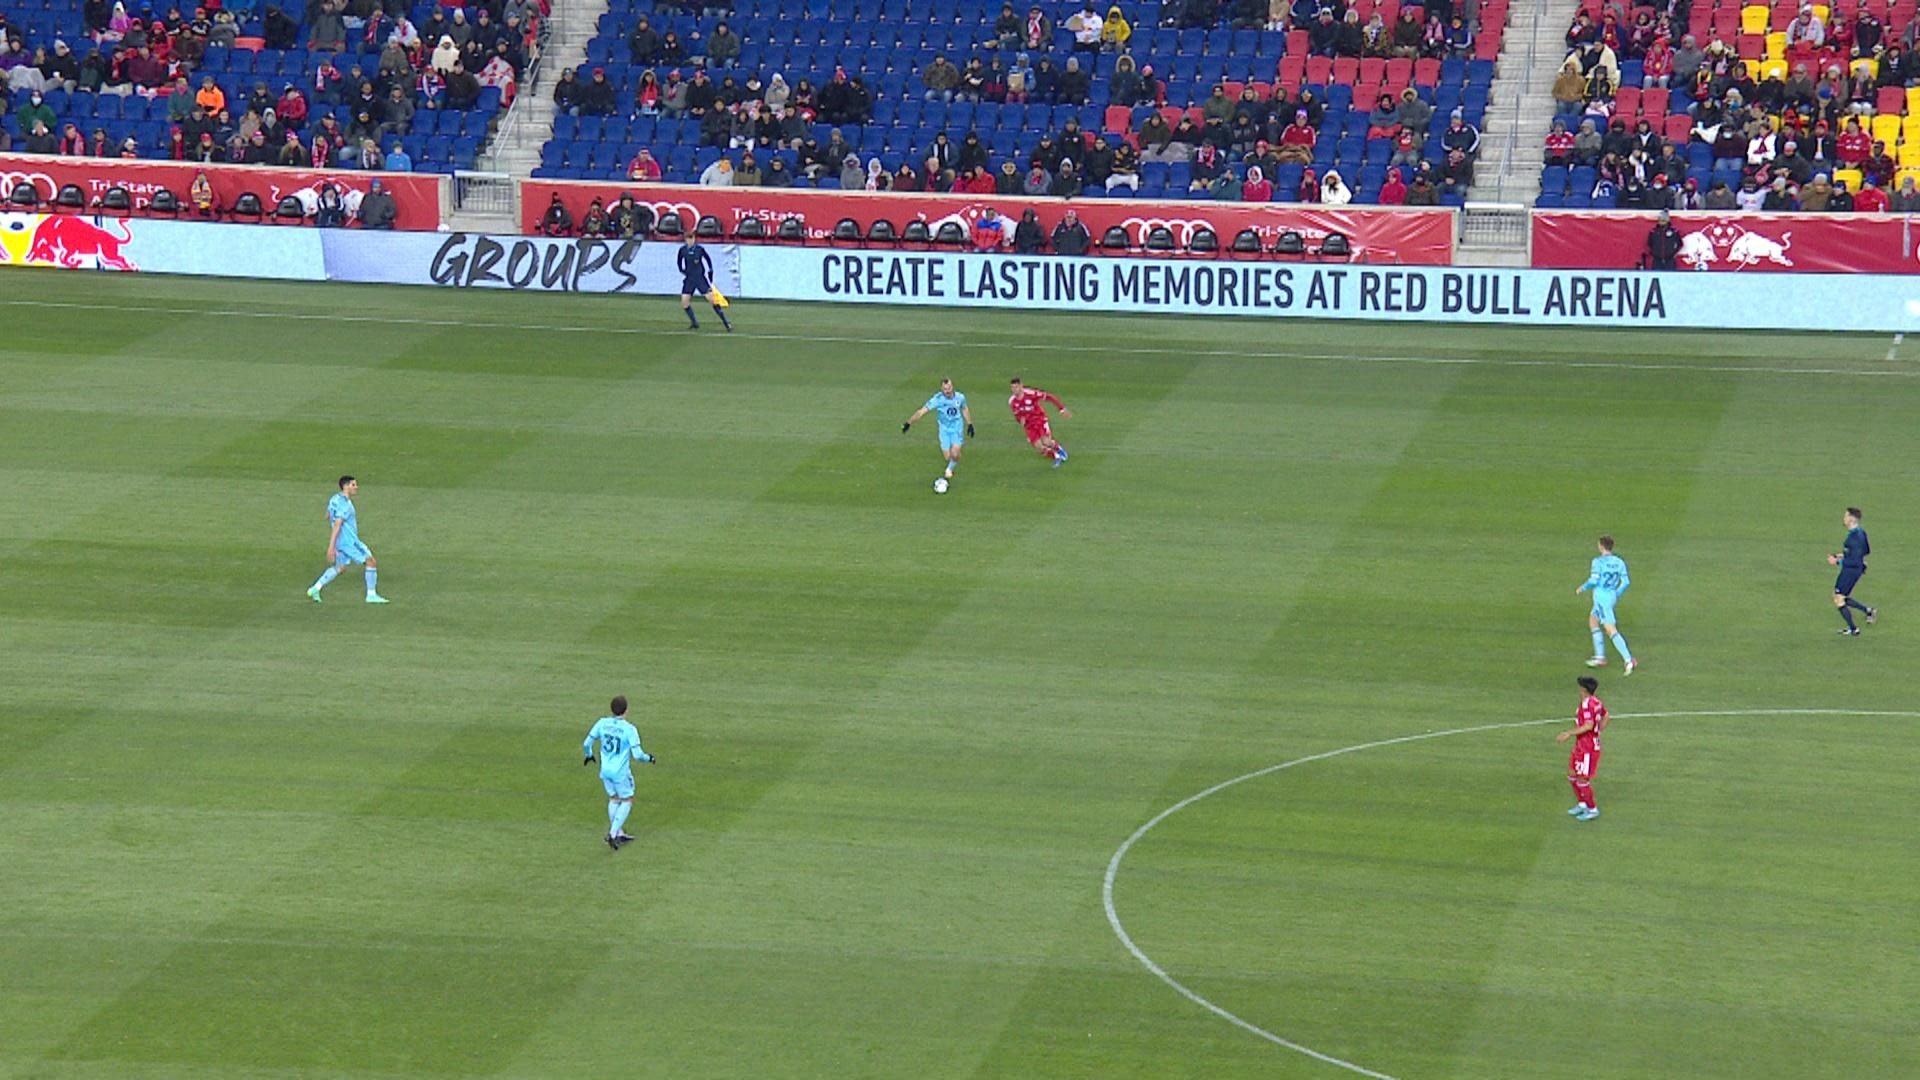football: (932, 477, 949, 495)
